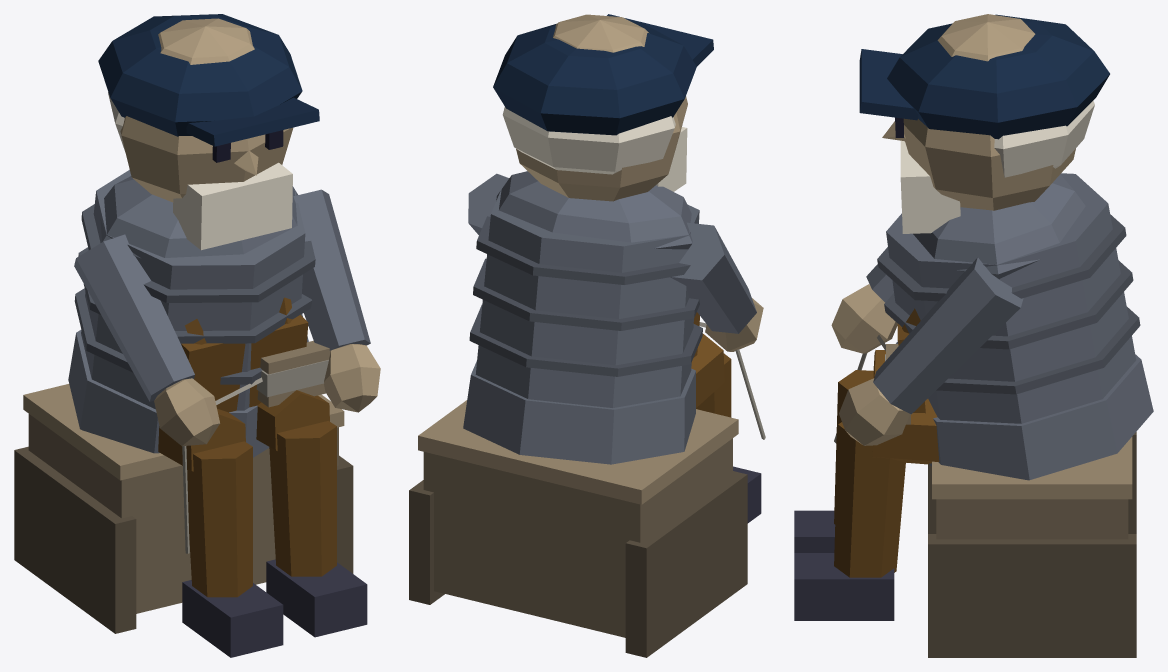
The model's file is brenner_nopipe.glb.
3 renders of one model, left to right at view 1: azimuth 30°, elevation 25°; view 2: azimuth 150°, elevation 25°; view 3: azimuth 270°, elevation 25°, orthographic. The views are drawn at different scales.
Visible parts, largest first — view 1: Head, Torso, Stool, LegL, LegR, ArmR, ArmL; view 2: Stool, Torso, Head, ArmR, LegR, ArmL; view 3: Torso, Stool, Head, LegL, ArmL, ArmR, LegR.
Part boxes in pixels (x1,y1,x2,y2): Head: [98, 14, 319, 250]; Torso: [68, 170, 315, 457]; Stool: [14, 384, 353, 633]; LegL: [215, 340, 367, 637]; LegR: [158, 408, 283, 657]; ArmR: [74, 234, 220, 446]; ArmL: [293, 189, 380, 412]; Stool: [409, 400, 747, 657]; Torso: [463, 171, 702, 464]; Head: [493, 14, 713, 201]; ArmR: [670, 222, 763, 351]; LegR: [691, 333, 765, 523]; ArmL: [468, 173, 509, 234]; Torso: [877, 173, 1153, 480]; Stool: [928, 432, 1136, 657]; Head: [859, 14, 1109, 233]; LegL: [794, 335, 939, 620]; ArmL: [839, 257, 1023, 445]; ArmR: [831, 264, 897, 353]; LegR: [794, 350, 885, 552].
Bounding box in the file's own units: 0.7057 × 1.48 × 0.8352.
